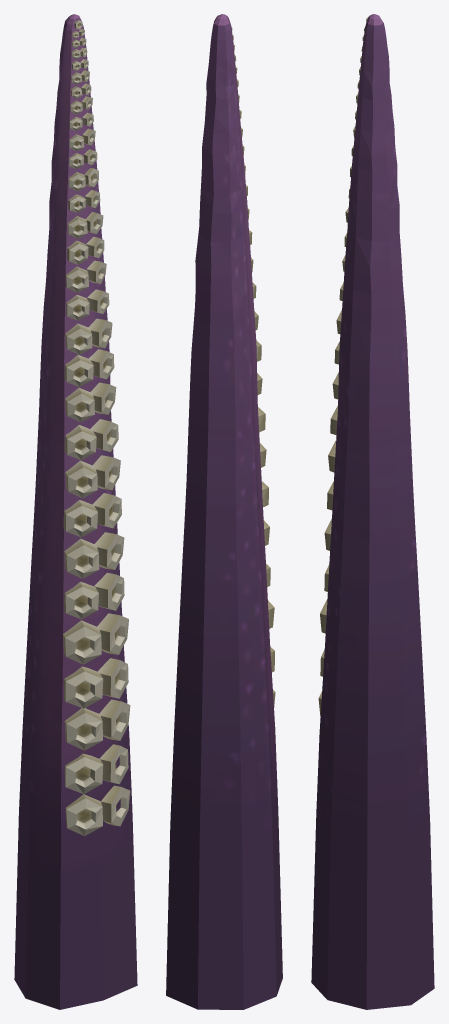
File: enKrakenTentacleDio4.fbx
3 views of the same model, side by side, from view 1: azimuth 90°, elevation 25°; view 2: azimuth 210°, elevation 25°; view 3: azimuth 270°, elevation 25° (orthographic).
Visible parts, largest first — view 1: krakenTentacle; view 2: krakenTentacle; view 3: krakenTentacle.
Boxes of the visible parts, x1,y1,x2,y2 form: krakenTentacle: (14,14,137,1009); krakenTentacle: (166,14,282,1009); krakenTentacle: (311,14,434,1009).
Bounding box in the file's own units: 2.04 × 17.9 × 2.06.
